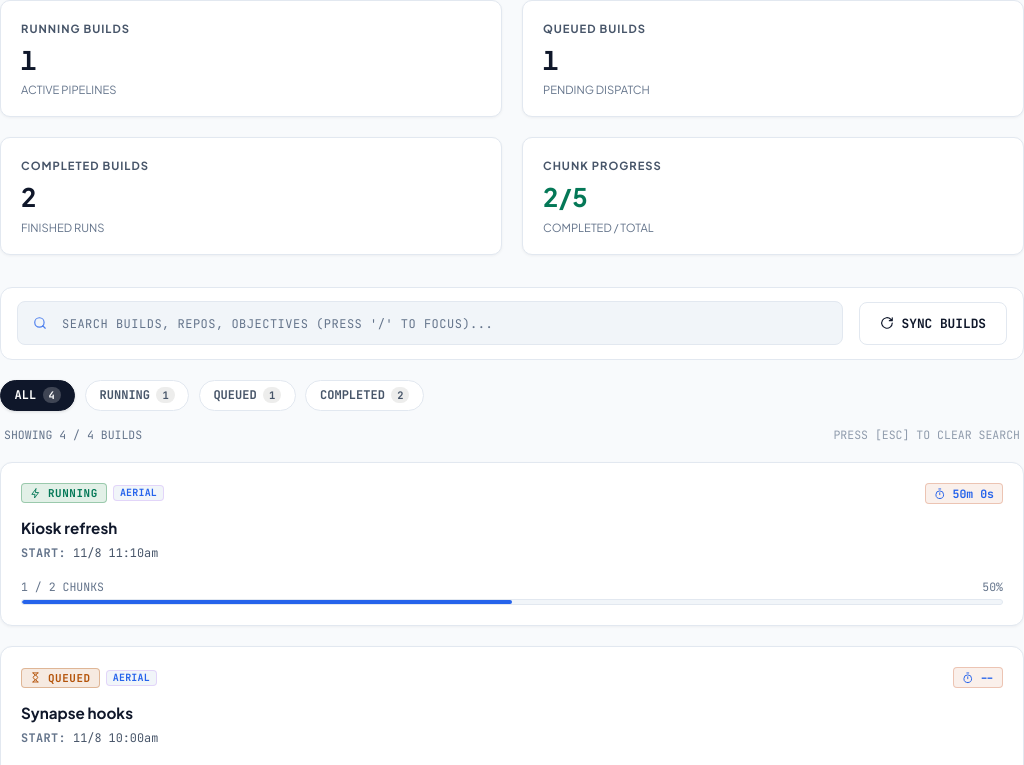
Test case: BuildsView filters › no matches
The width and height of the screenshot is (1024, 765).
Step 1. Click the button "RUNNING 1" → (137, 395), box [85,380,189,411]
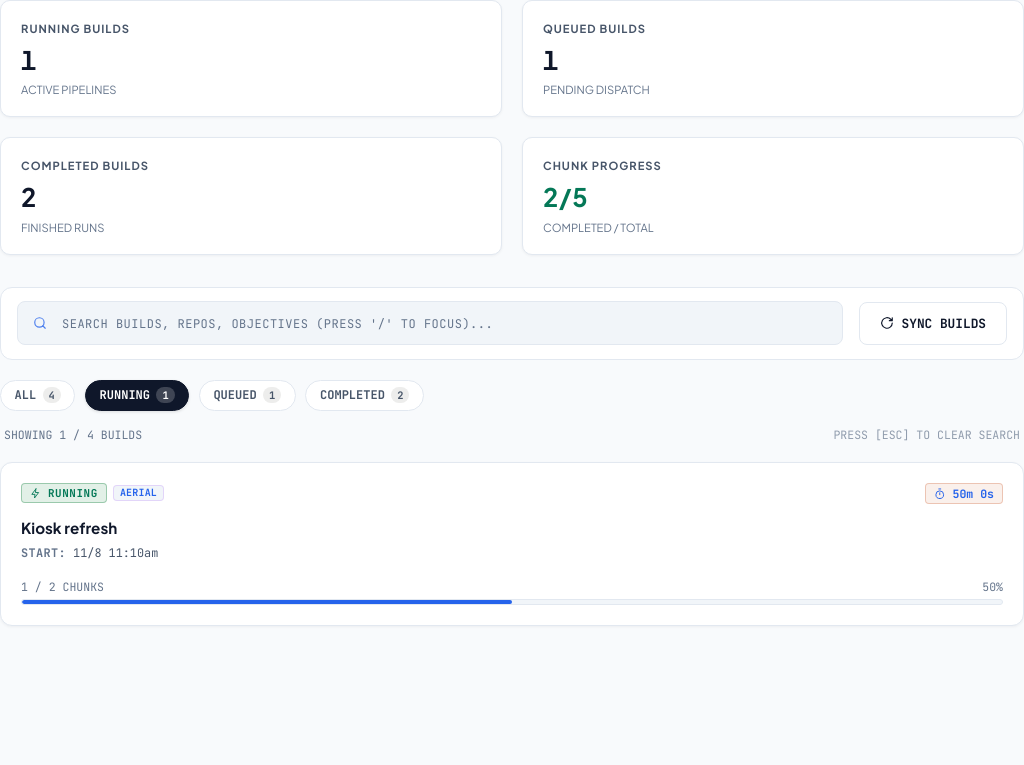
Step 2. Type "docs" into the field labelled "SEARCH BUILDS" → (430, 323), box [17,301,842,345]
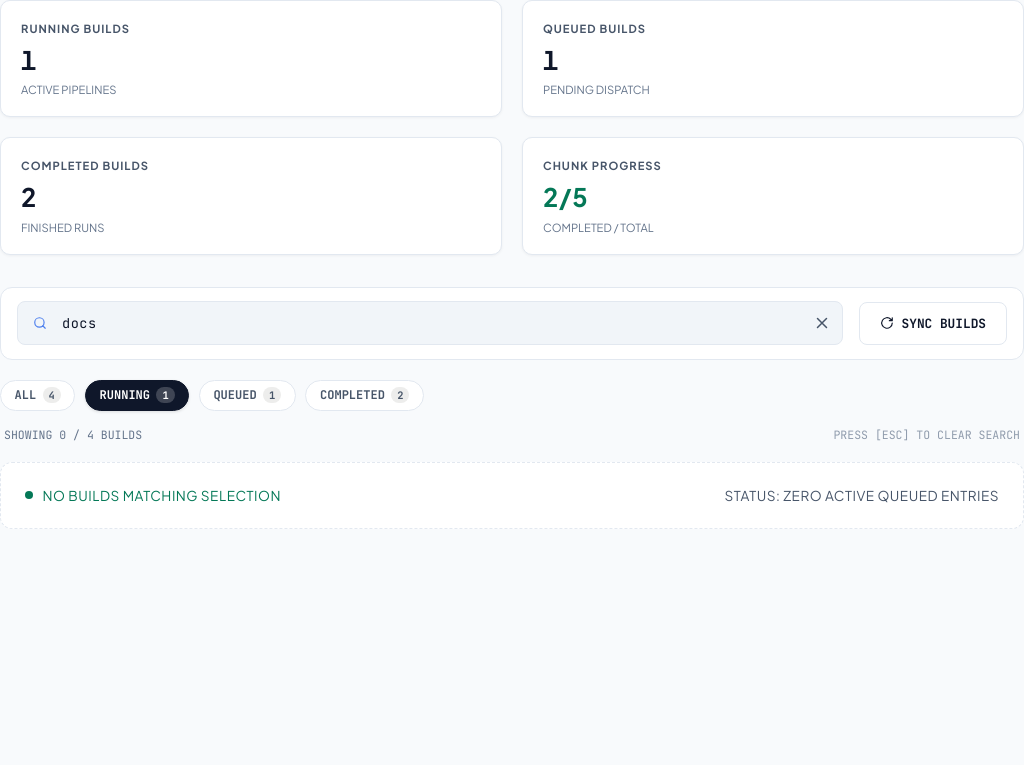
Expected: the text with id "builds-results-count" reads "SHOWING 0 / 4 BUILDS", [4,427,142,442]
